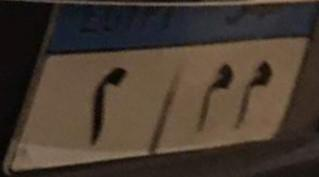2: (78, 60, 127, 158)
م: (226, 47, 280, 129), (190, 54, 239, 136)
